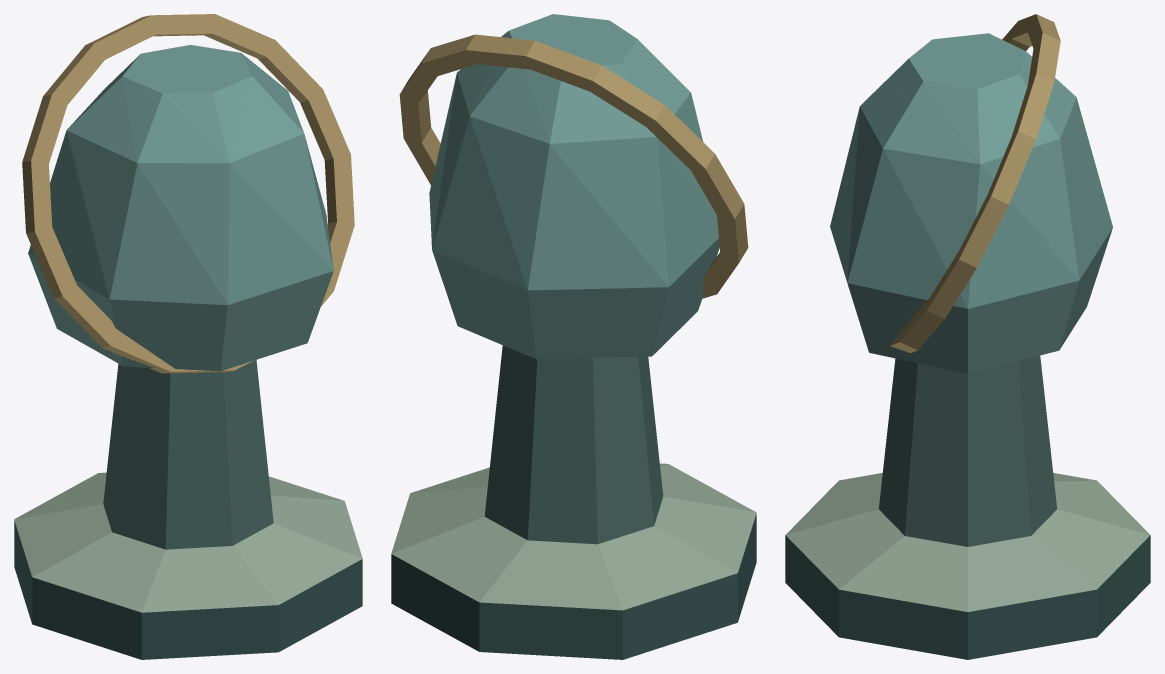
Rendered from globe.glb.
3 views of the same model, side by side, from view 1: azimuth 30°, elevation 25°; view 2: azimuth 150°, elevation 25°; view 3: azimuth 270°, elevation 25° (orthographic). The views are drawn at different scales.
Visible parts, largest first — view 1: globe__body; view 2: globe__body; view 3: globe__body.
Boxes of the visible parts, left/top/right/bottom form: globe__body: left=14, top=14, right=362, bottom=659; globe__body: left=391, top=14, right=756, bottom=659; globe__body: left=785, top=14, right=1150, bottom=659.
Bounding box in the file's own units: 0.91 × 1.5 × 0.9.
